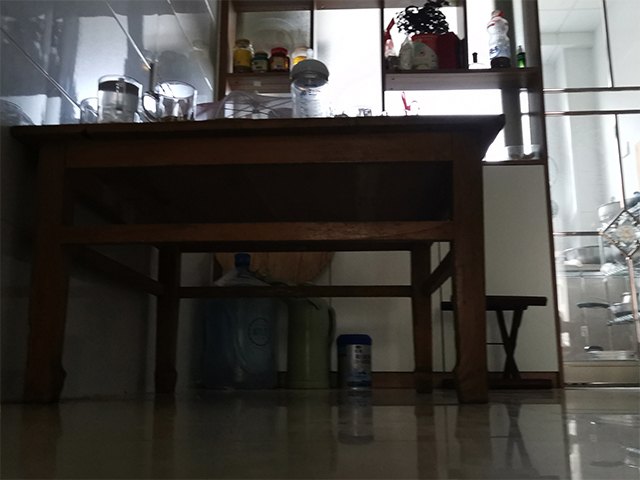stool: (440, 293, 558, 392)
table: (7, 111, 508, 406)
